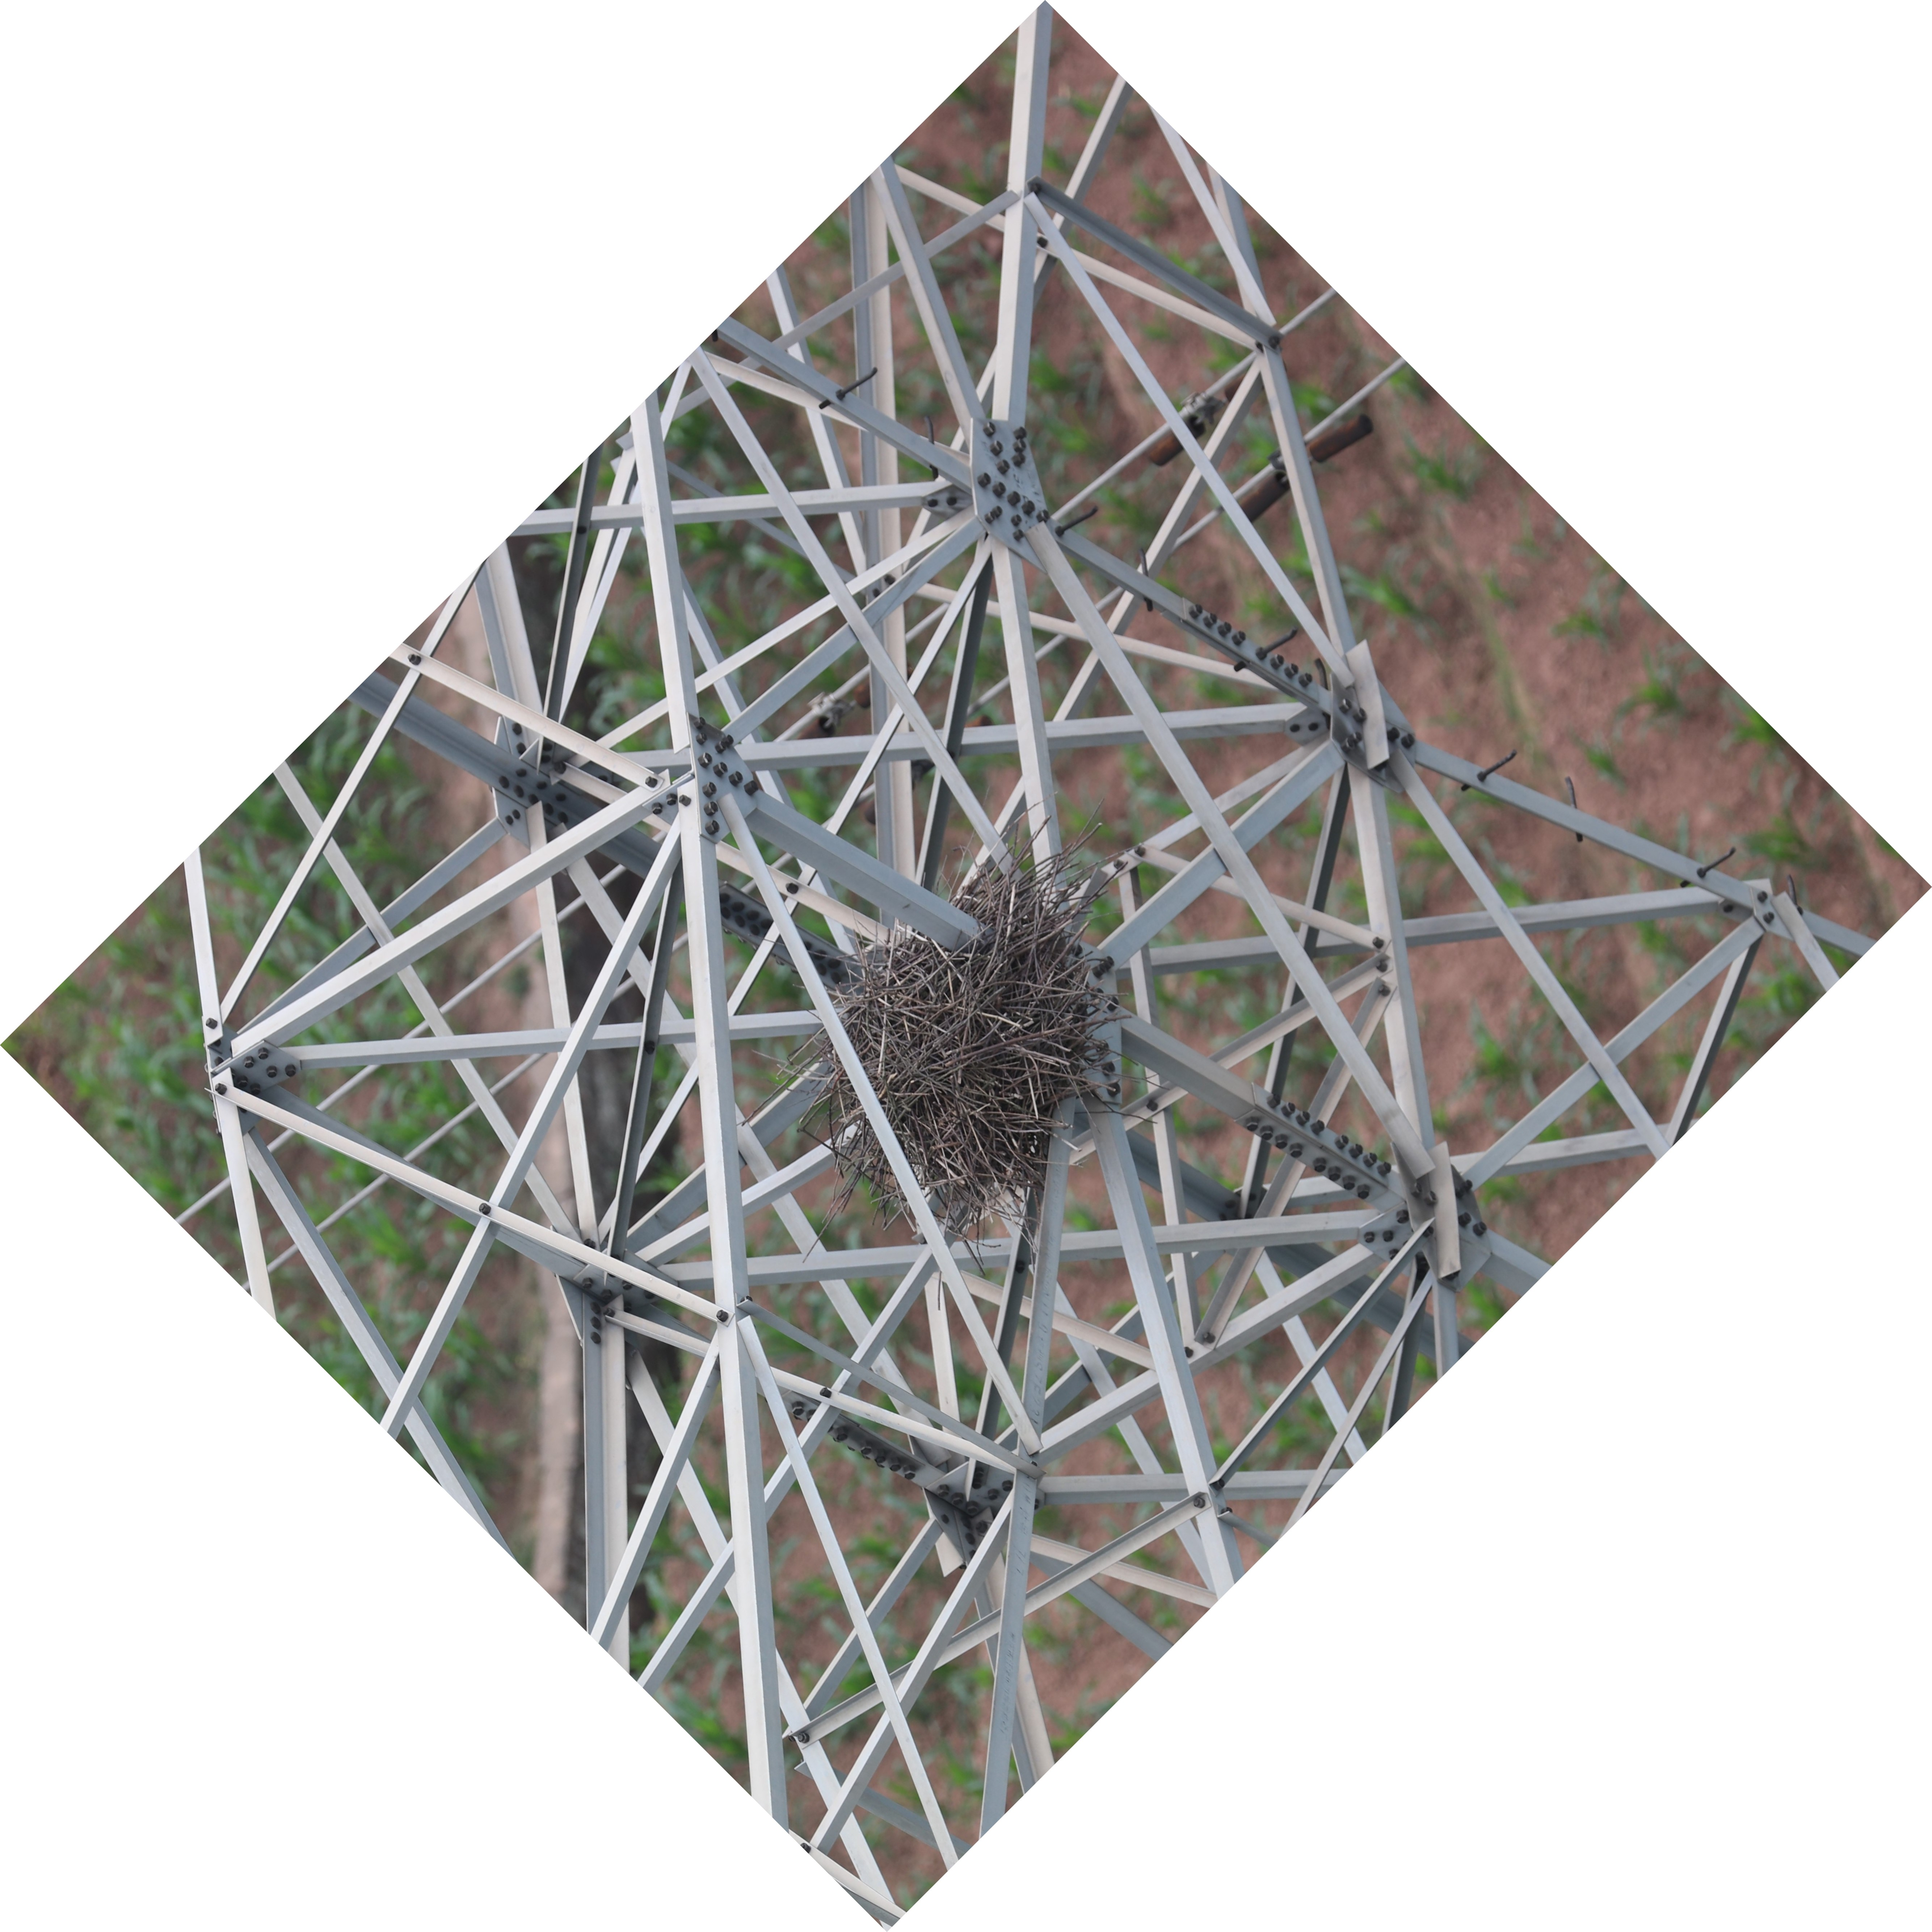niaowo: (780, 856, 1123, 1224)
